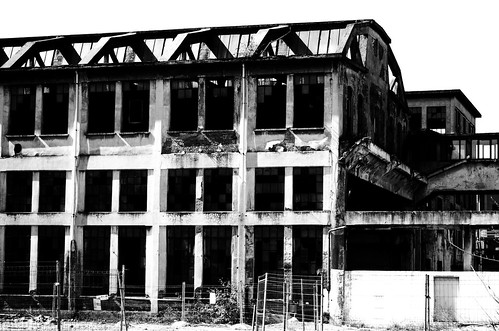building: (1, 17, 498, 331)
